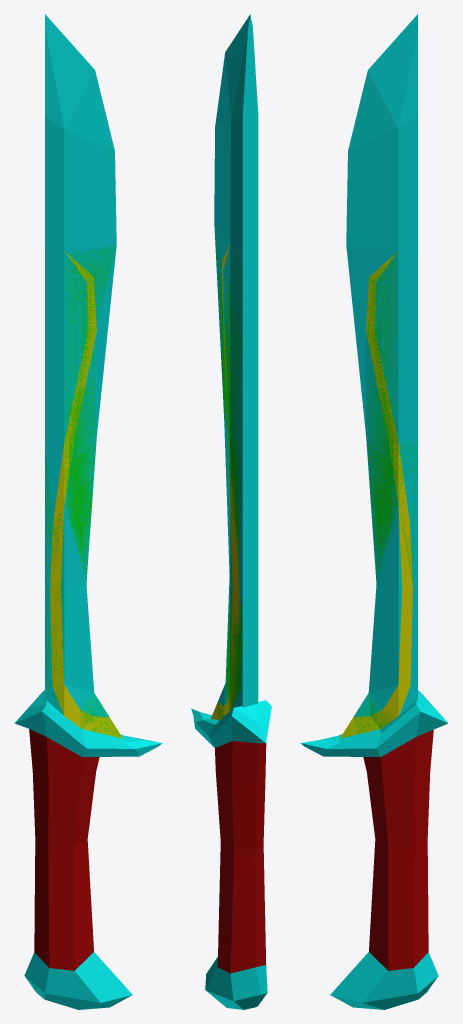
Rendered from Sword_Legendary_BloodMagicKatana 2.fbx.
3 renders of one model, left to right at view 1: azimuth 90°, elevation 25°; view 2: azimuth 210°, elevation 25°; view 3: azimuth 270°, elevation 25°, orthographic.
Parts seen in each view (by area): view 1: SM_Wep_Sword_18; view 2: SM_Wep_Sword_18; view 3: SM_Wep_Sword_18.
Part boxes in pixels (x1,y1,x2,y2): SM_Wep_Sword_18: [14, 14, 162, 1009]; SM_Wep_Sword_18: [191, 14, 271, 1009]; SM_Wep_Sword_18: [300, 14, 448, 1009].
Size of the model in its own units: 4.34 by 104 by 14.05.
